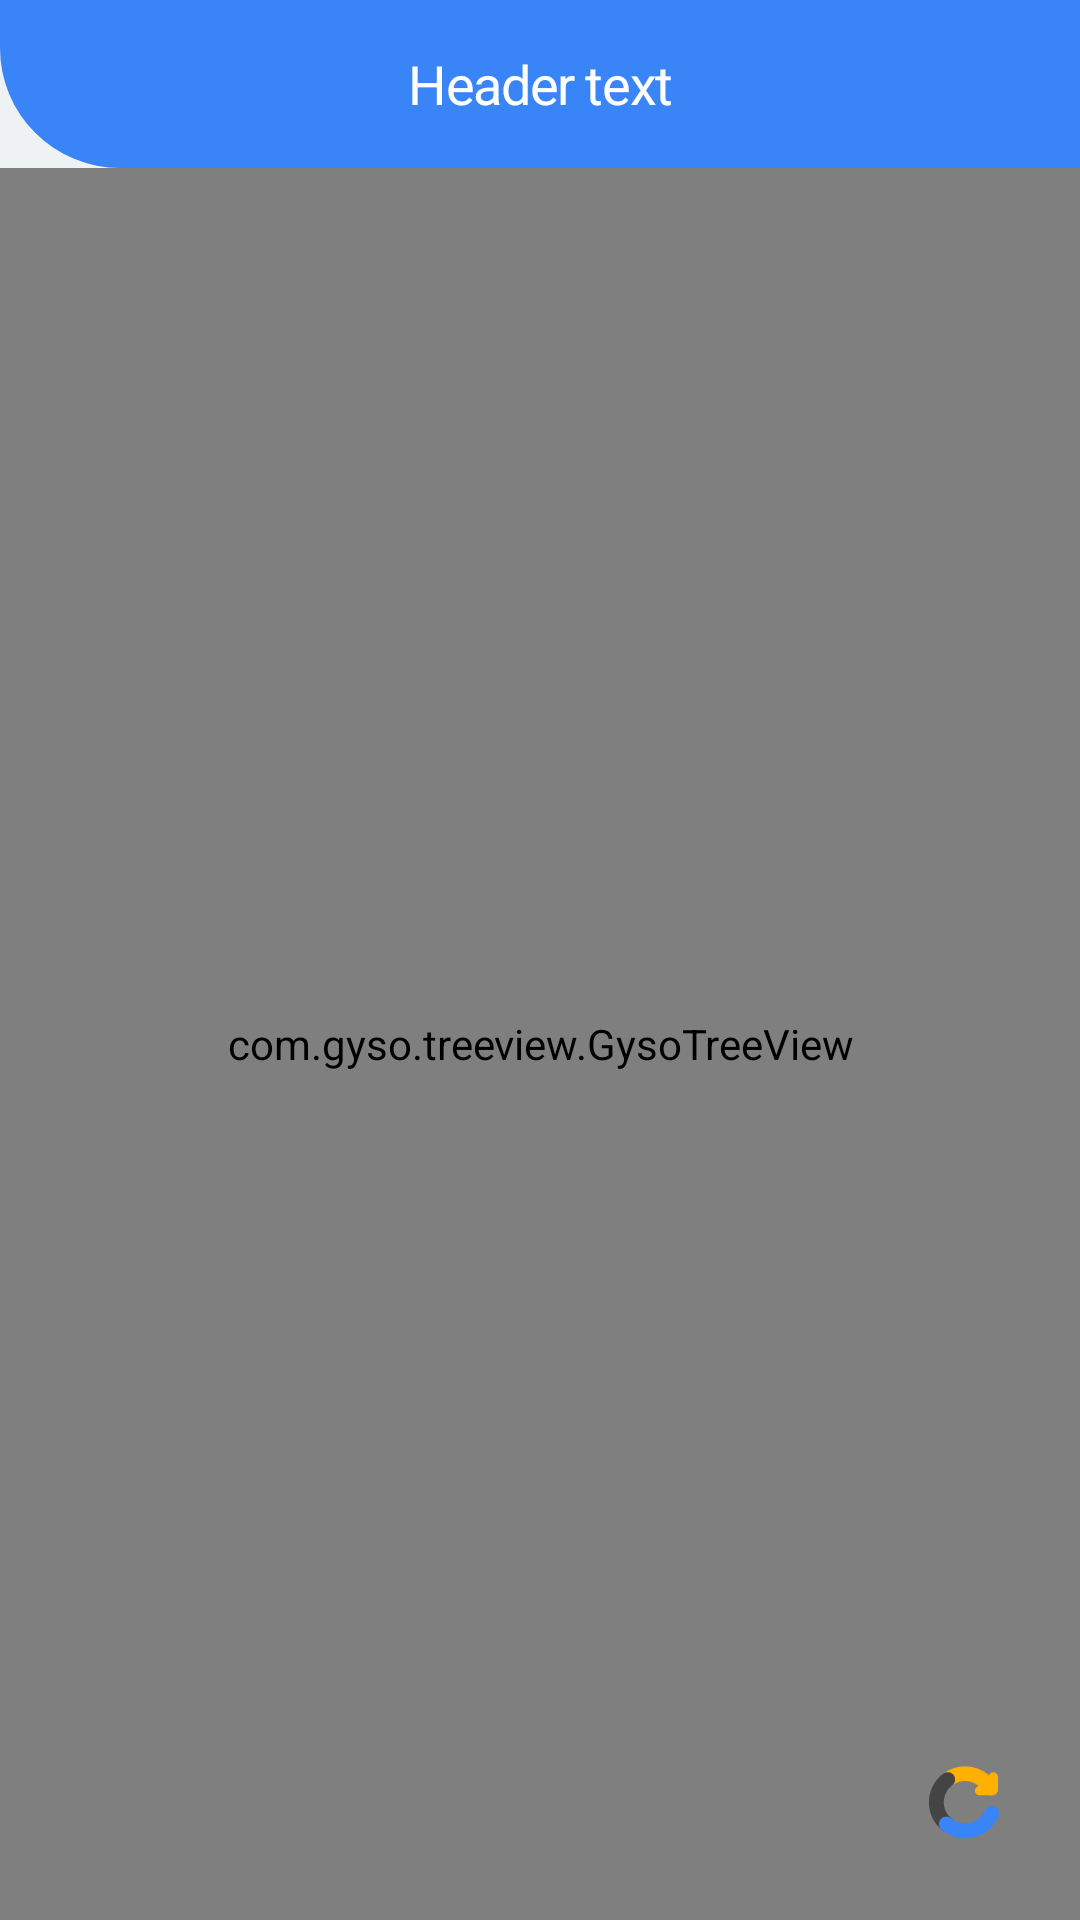

Where icons sit on this 1080w x 1920h app screen, as (x1, y1, x2, y2):
refresh: (929, 1766, 999, 1839)
